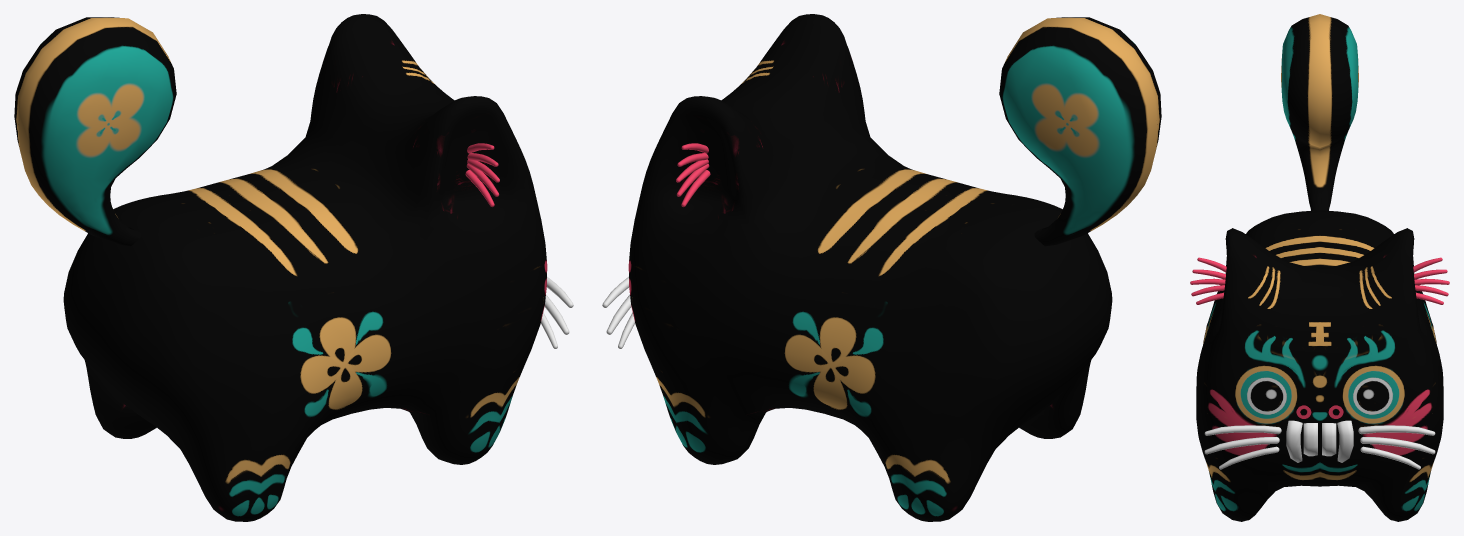
File: tiger-grandpa.glb
3 renders of one model, left to right at view 1: azimuth 30°, elevation 25°; view 2: azimuth 150°, elevation 25°; view 3: azimuth 270°, elevation 25°, orthographic. The views are drawn at different scales.
Parts seen in each view (by area): view 1: Cube; view 2: Cube; view 3: Cube.
Part boxes in pixels (<box>): Cube: <box>14,14,573,521</box>; Cube: <box>602,14,1161,521</box>; Cube: <box>1190,14,1449,521</box>.
Bounding box in the file's own units: 1.23 × 1.16 × 0.7217.
1 material, 1 textured.
